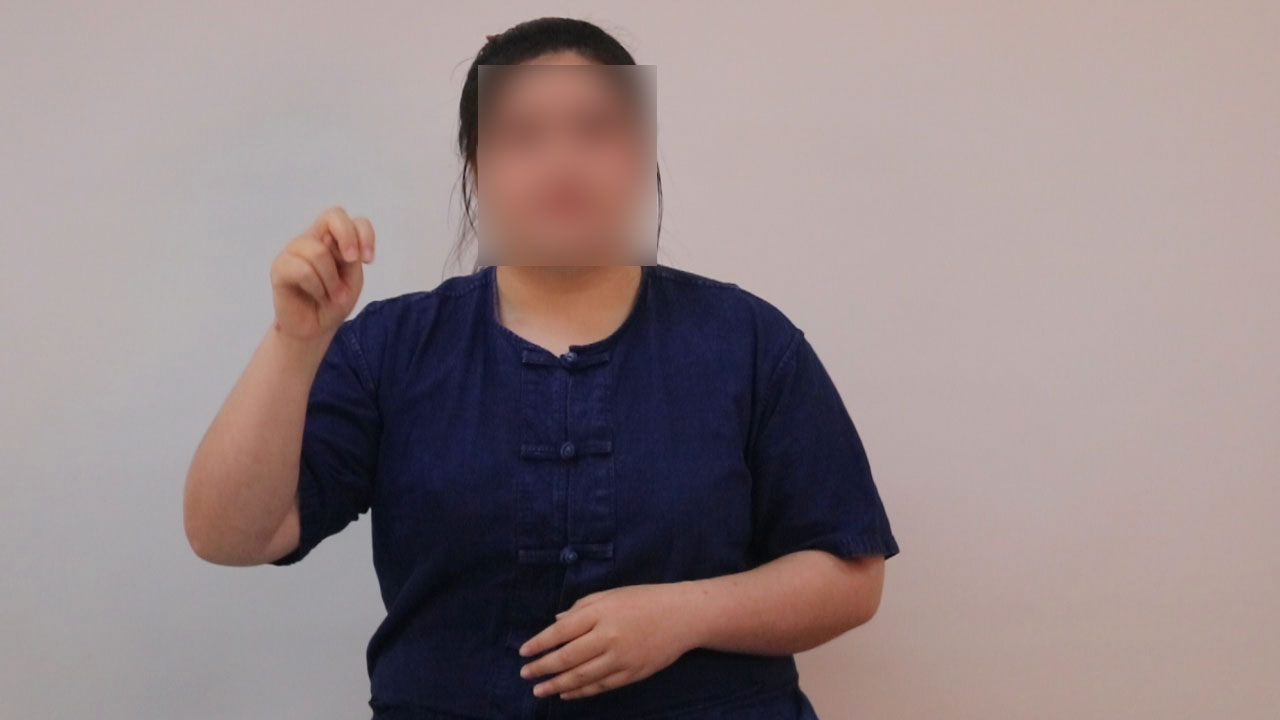nor: (250, 188, 390, 350)
